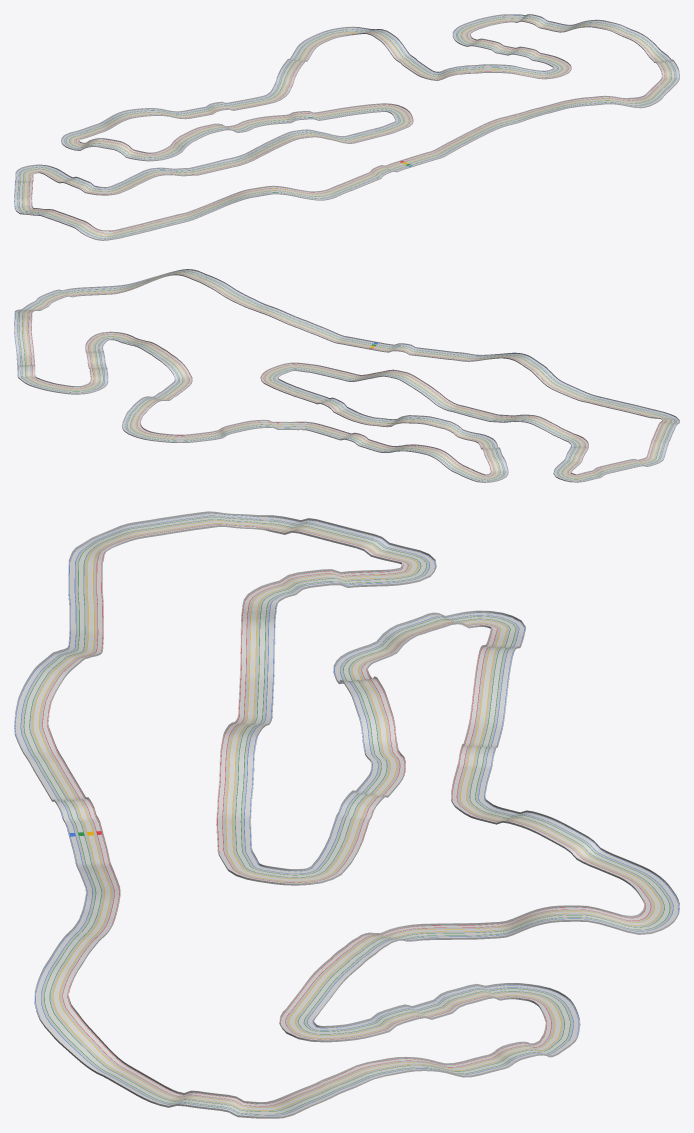
File: Google Cloud Game Final2_Track.fbx
3 renders of one model, top to bottom at view 1: azimuth 30°, elevation 25°; view 2: azimuth 150°, elevation 25°; view 3: azimuth 270°, elevation 25°, orthographic. The views are drawn at different scales.
Visible parts, largest first — view 1: Track, Track Border; view 2: Track, Track Border; view 3: Track, Track Border.
Boxes of the visible parts, x1,y1,x2,y2 form: Track: [14, 15, 679, 239]; Track Border: [14, 14, 679, 240]; Track: [14, 270, 679, 482]; Track Border: [14, 269, 679, 482]; Track: [14, 513, 679, 1118]; Track Border: [14, 511, 679, 1118].
Bounding box in the file's own units: 22383 × 773 × 10469.
